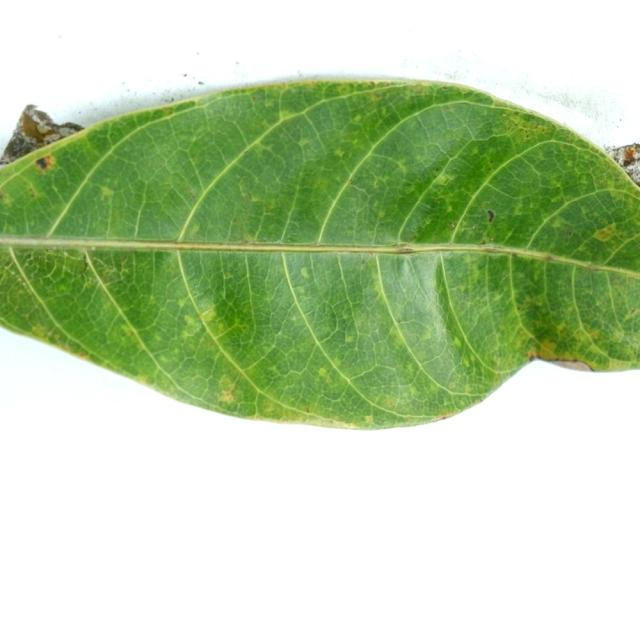Mango: (0, 79, 639, 427)
Powdery_Mildew: (81, 248, 128, 279), (37, 328, 84, 355), (506, 116, 551, 136), (340, 177, 372, 202), (94, 181, 120, 204), (535, 337, 560, 357), (603, 356, 635, 371), (592, 223, 618, 241), (399, 255, 416, 282), (34, 155, 54, 172), (260, 398, 281, 414), (218, 386, 236, 403), (480, 243, 507, 254), (389, 325, 405, 343), (622, 146, 638, 163), (433, 174, 453, 187), (317, 366, 333, 382), (200, 308, 217, 323), (261, 200, 278, 213), (79, 253, 89, 275), (31, 325, 47, 338), (5, 266, 20, 279), (260, 141, 275, 153), (279, 110, 296, 120), (395, 160, 408, 173), (585, 262, 603, 271), (119, 325, 132, 337), (180, 329, 193, 341), (435, 413, 454, 421), (422, 328, 434, 340), (406, 230, 418, 242), (176, 298, 189, 309), (625, 308, 638, 319), (299, 138, 313, 148), (588, 329, 602, 339), (136, 375, 150, 385), (242, 235, 256, 245), (527, 351, 539, 362), (334, 148, 347, 158), (190, 222, 200, 235), (486, 209, 495, 223), (453, 336, 463, 348), (300, 267, 310, 278), (352, 114, 363, 124), (27, 187, 37, 198), (295, 285, 308, 293), (364, 414, 374, 424), (543, 254, 555, 262), (242, 191, 251, 201), (445, 205, 454, 214), (345, 335, 355, 343), (433, 165, 443, 173), (251, 93, 260, 101), (390, 242, 401, 248), (387, 399, 395, 407), (190, 190, 197, 199), (291, 314, 298, 322), (327, 418, 336, 424), (566, 230, 573, 237), (287, 236, 295, 242), (0, 191, 6, 199), (450, 222, 456, 229), (51, 245, 58, 251), (479, 240, 487, 245), (91, 246, 97, 252), (348, 179, 353, 185), (306, 407, 311, 413), (361, 259, 366, 265), (369, 81, 376, 85), (64, 252, 69, 257), (490, 237, 494, 242), (472, 225, 476, 230), (638, 242, 640, 250)
